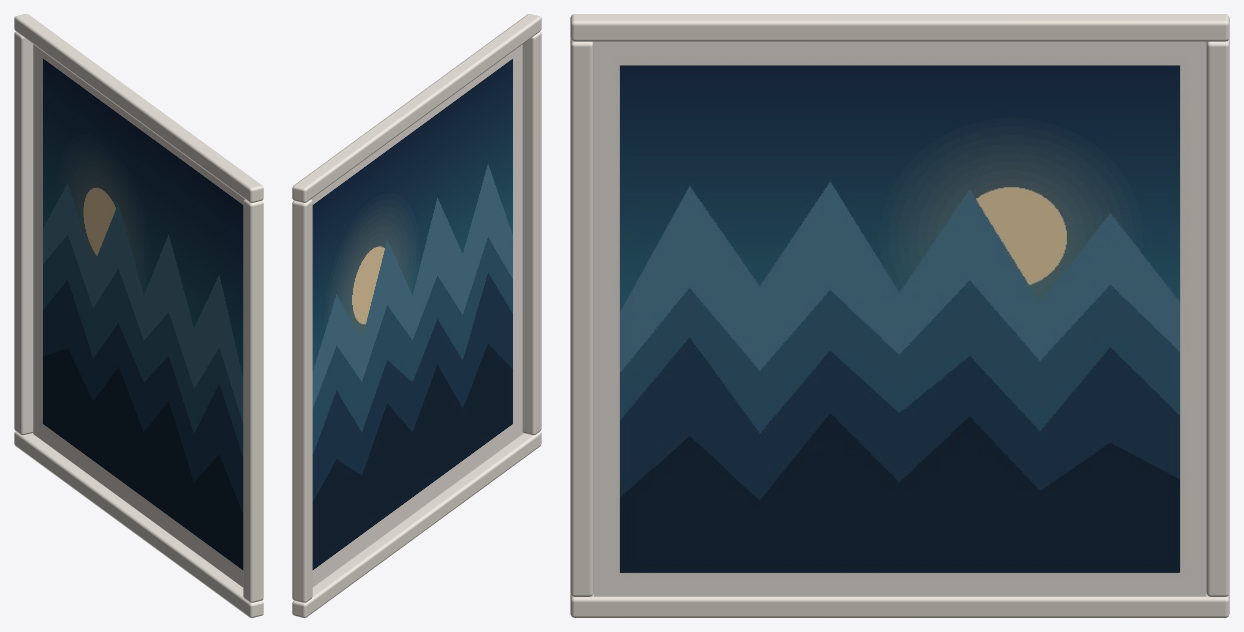
File: poster_peaks.fbx
3 renders of one model, left to right at view 1: azimuth 30°, elevation 25°; view 2: azimuth 150°, elevation 25°; view 3: azimuth 270°, elevation 25°, orthographic. The views are drawn at different scales.
Visible parts, largest first — view 1: poster_peaks; view 2: poster_peaks; view 3: poster_peaks.
Boxes of the visible parts, x1,y1,x2,y2 form: poster_peaks: [14, 14, 263, 617]; poster_peaks: [292, 14, 541, 617]; poster_peaks: [570, 14, 1229, 617].
Bounding box in the file's own units: 0.022 × 0.624 × 0.624.
